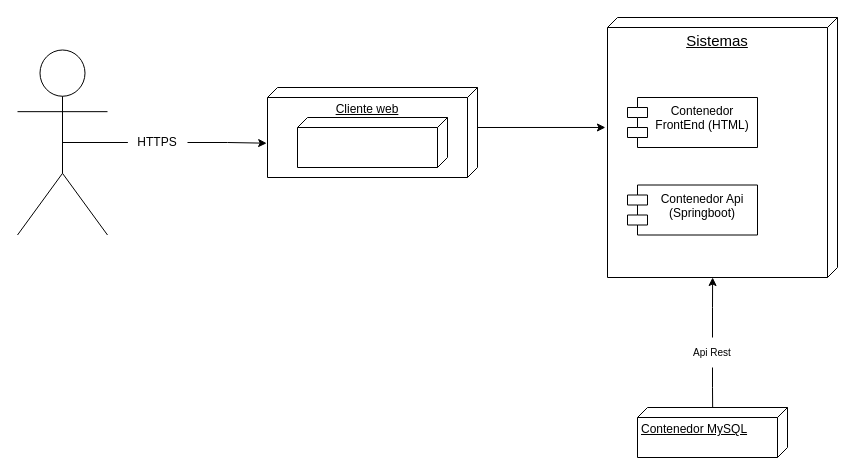
Image size: 855x475. Some labels were removed from this diagram. Each missing label, with the centre of its shape:
Actor: the point at 62,142
Navegador web (Cliente EcoMarket): the point at 372,142
